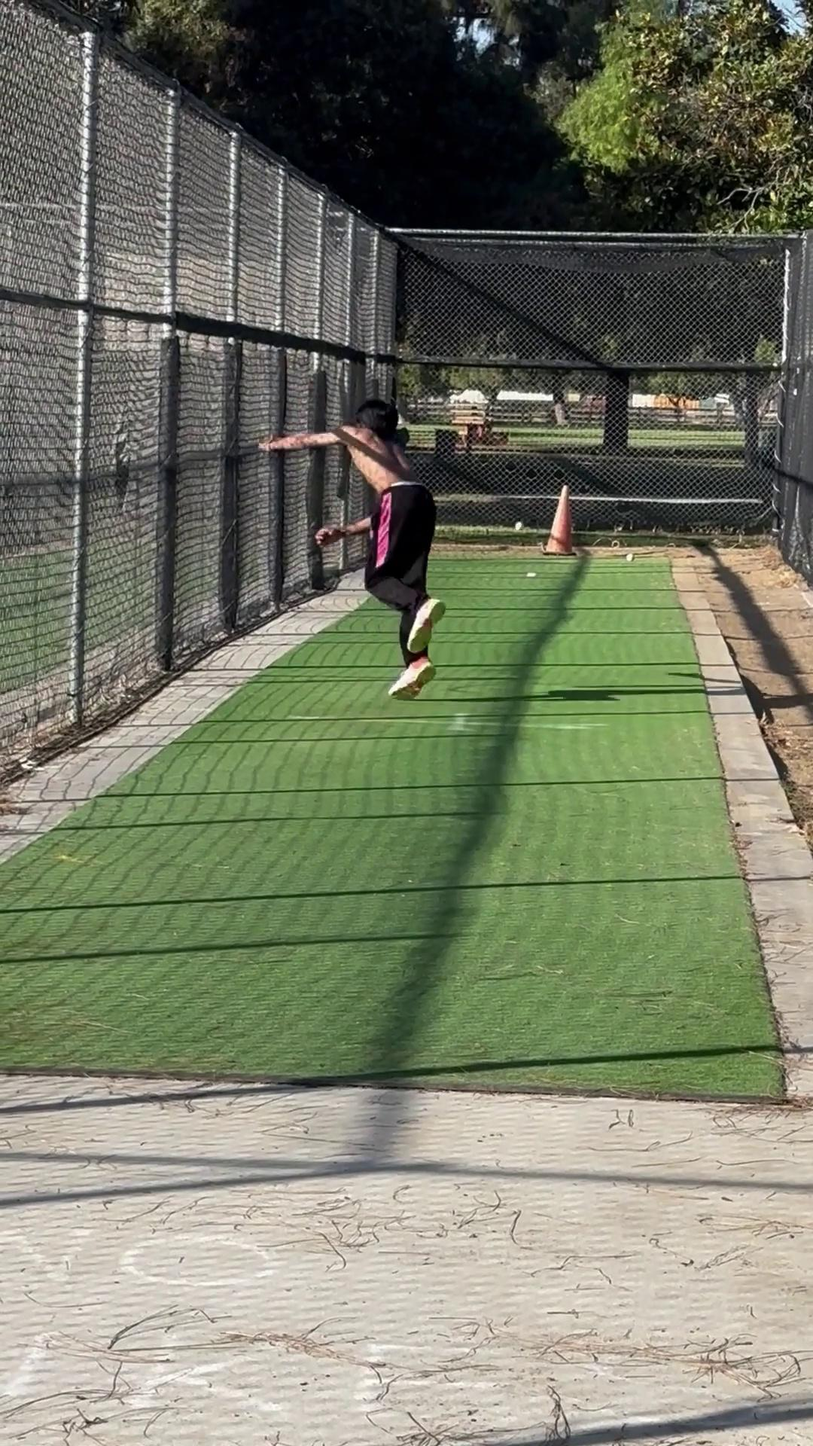ball: (512, 519, 527, 533)
